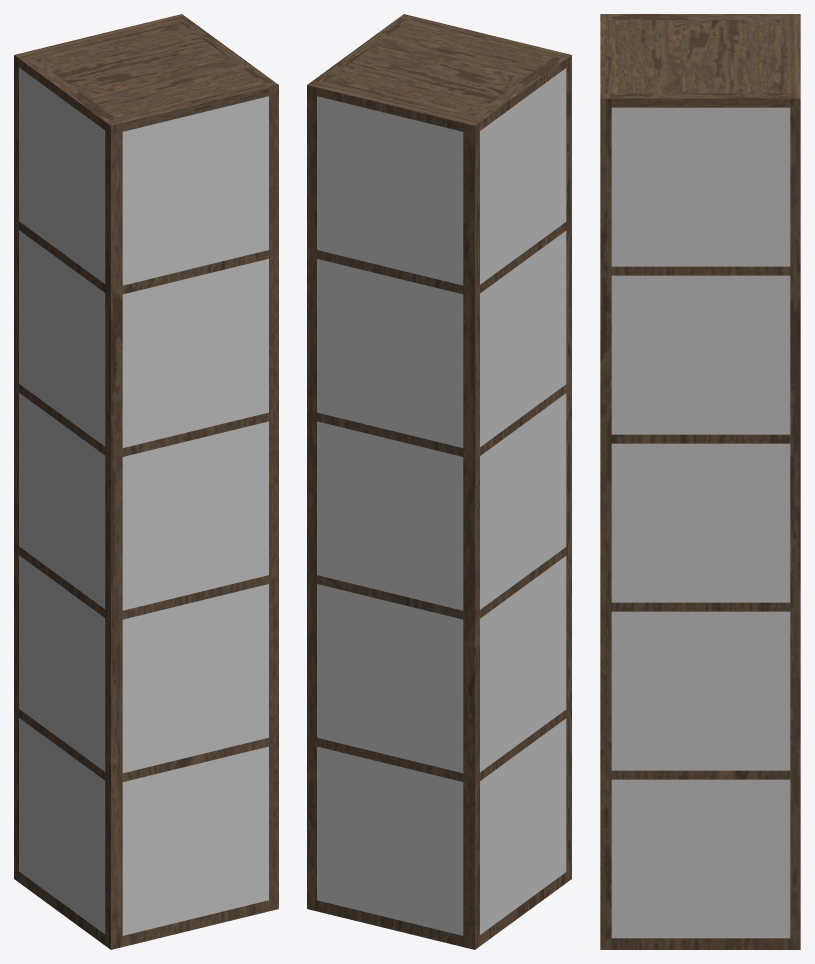
File: GlassCase_Normal.glb
3 renders of one model, left to right at view 1: azimuth 30°, elevation 25°; view 2: azimuth 150°, elevation 25°; view 3: azimuth 270°, elevation 25°, orthographic. The views are drawn at different scales.
Visible parts, largest first — view 1: Plane; view 2: Plane; view 3: Plane.
Part boxes in pixels (x1,y1,x2,y2): Plane: (14, 14, 278, 949); Plane: (307, 14, 571, 949); Plane: (600, 14, 800, 949).
Bounding box in the file's own units: 2 × 9.38 × 2.
2 materials, 1 textured.
